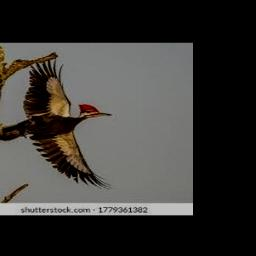Woodpecker: (0, 58, 115, 191)
